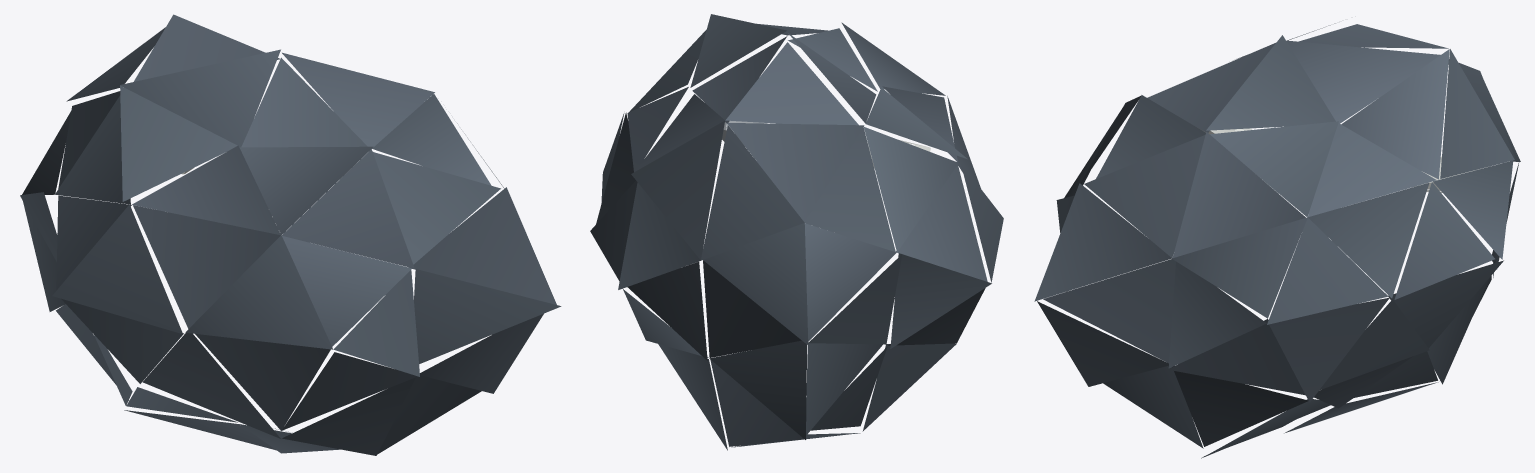
Rendered from small-lod2.glb.
3 views of the same model, side by side, from view 1: azimuth 30°, elevation 25°; view 2: azimuth 150°, elevation 25°; view 3: azimuth 270°, elevation 25° (orthographic). The views are drawn at different scales.
Visible parts, largest first — view 1: tin-host-rock; view 2: tin-host-rock; view 3: tin-host-rock.
Part boxes in pixels (x1=…): tin-host-rock: x1=20, y1=14, x2=561, y2=455; tin-host-rock: x1=590, y1=14, x2=1003, y2=450; tin-host-rock: x1=1034, y1=23, x2=1520, y2=458.
Bounding box in the file's own units: 1.62 × 1.51 × 1.68.
